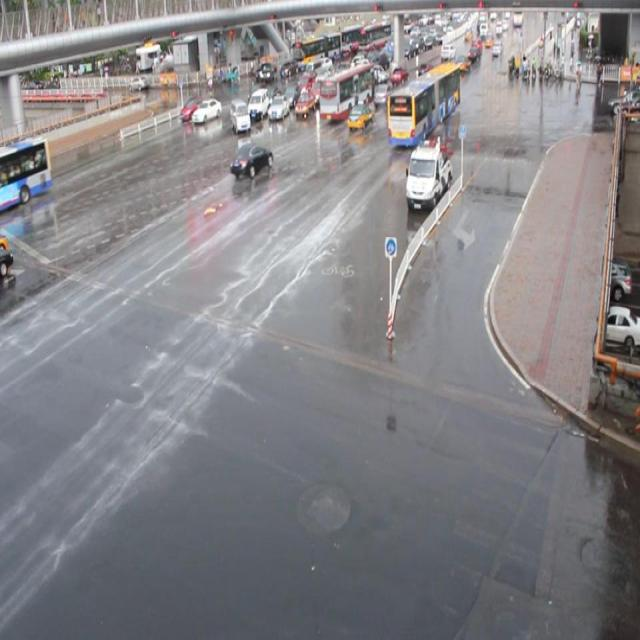bus: (403, 142, 450, 210)
car: (229, 141, 273, 178), (346, 101, 374, 129), (192, 97, 222, 123), (179, 96, 207, 120), (292, 91, 314, 118), (304, 80, 325, 106), (373, 82, 395, 106), (266, 96, 288, 119), (260, 84, 282, 107), (246, 81, 267, 104), (280, 82, 300, 106), (291, 75, 311, 97)
truck: (244, 88, 266, 120), (230, 98, 250, 132)
van: (386, 63, 460, 146), (1, 137, 52, 214), (318, 62, 375, 120)
